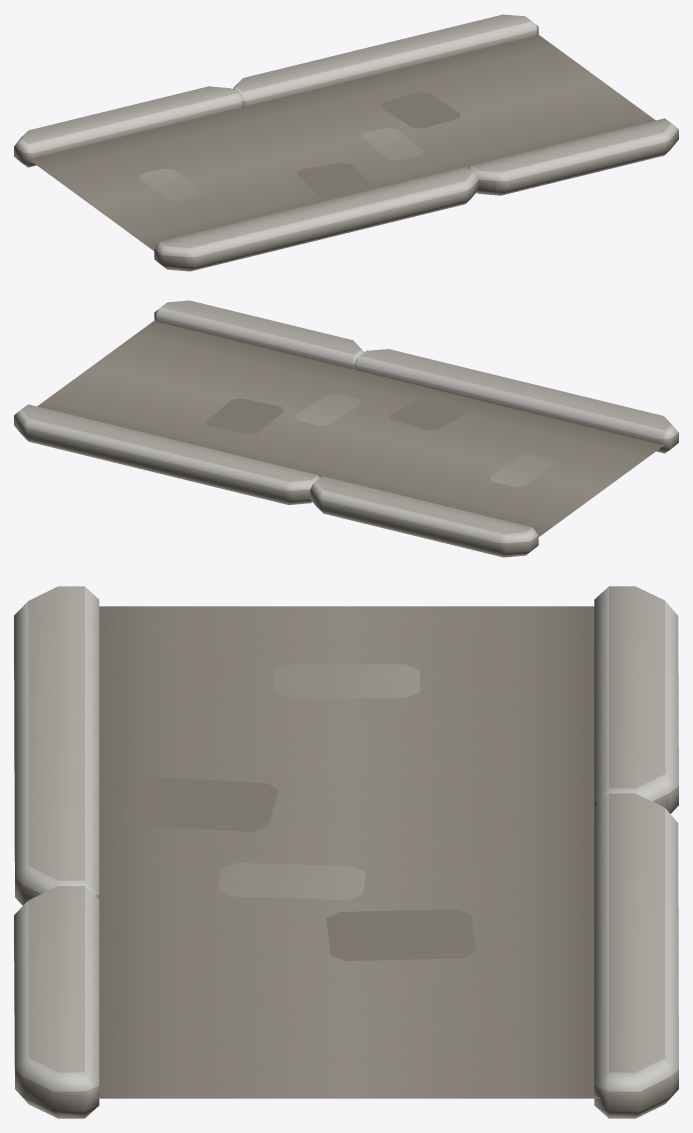
The model's file is path_park_tile_x4.fbx.
3 renders of one model, top to bottom at view 1: azimuth 30°, elevation 25°; view 2: azimuth 150°, elevation 25°; view 3: azimuth 270°, elevation 25°, orthographic. The views are drawn at different scales.
Visible parts, largest first — view 1: path_park_tile_x4; view 2: path_park_tile_x4; view 3: path_park_tile_x4.
Boxes of the visible parts, bbox=[...] form: path_park_tile_x4: bbox=[14, 14, 678, 271]; path_park_tile_x4: bbox=[14, 300, 678, 557]; path_park_tile_x4: bbox=[14, 586, 678, 1118].
Size of the model in its own units: 810 by 35 by 457.
